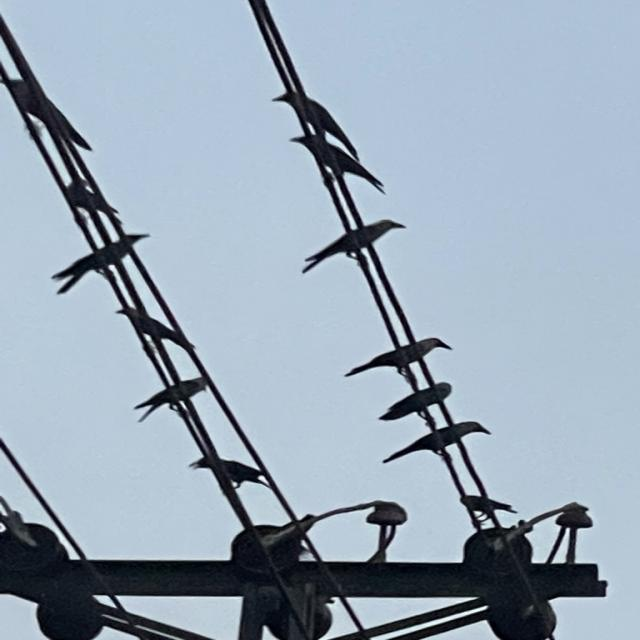bird: (0, 76, 97, 152), (284, 133, 390, 197), (48, 232, 154, 296), (270, 90, 363, 162), (298, 217, 408, 276), (342, 336, 455, 382), (381, 420, 494, 466), (114, 305, 198, 353), (132, 376, 212, 424), (376, 380, 456, 426), (187, 454, 274, 494), (63, 176, 127, 227), (456, 492, 520, 528)
